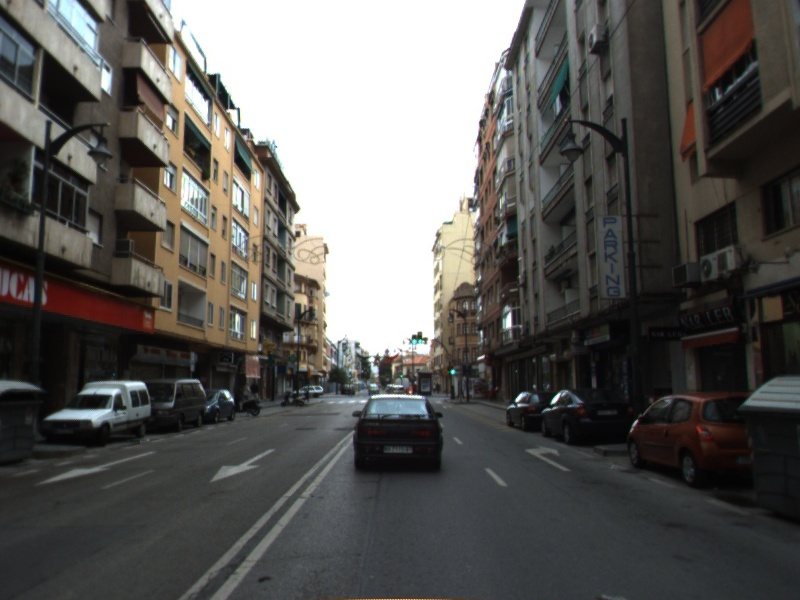RIGHT: (524, 442, 574, 473)
